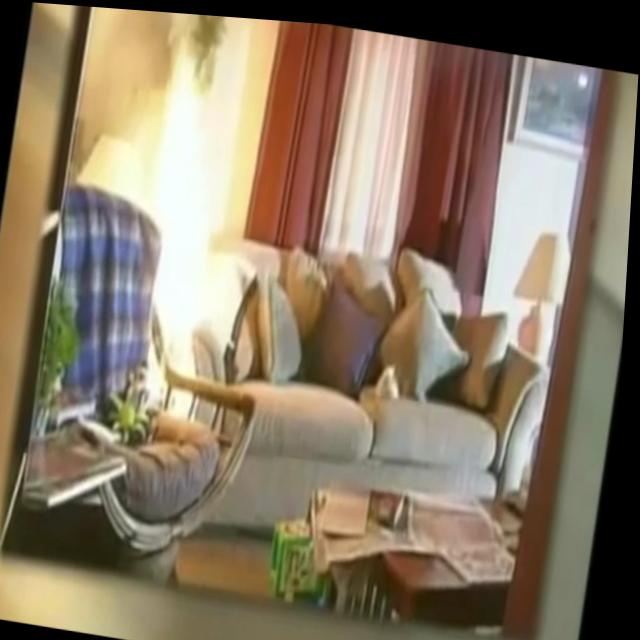fire: (104, 12, 262, 424)
